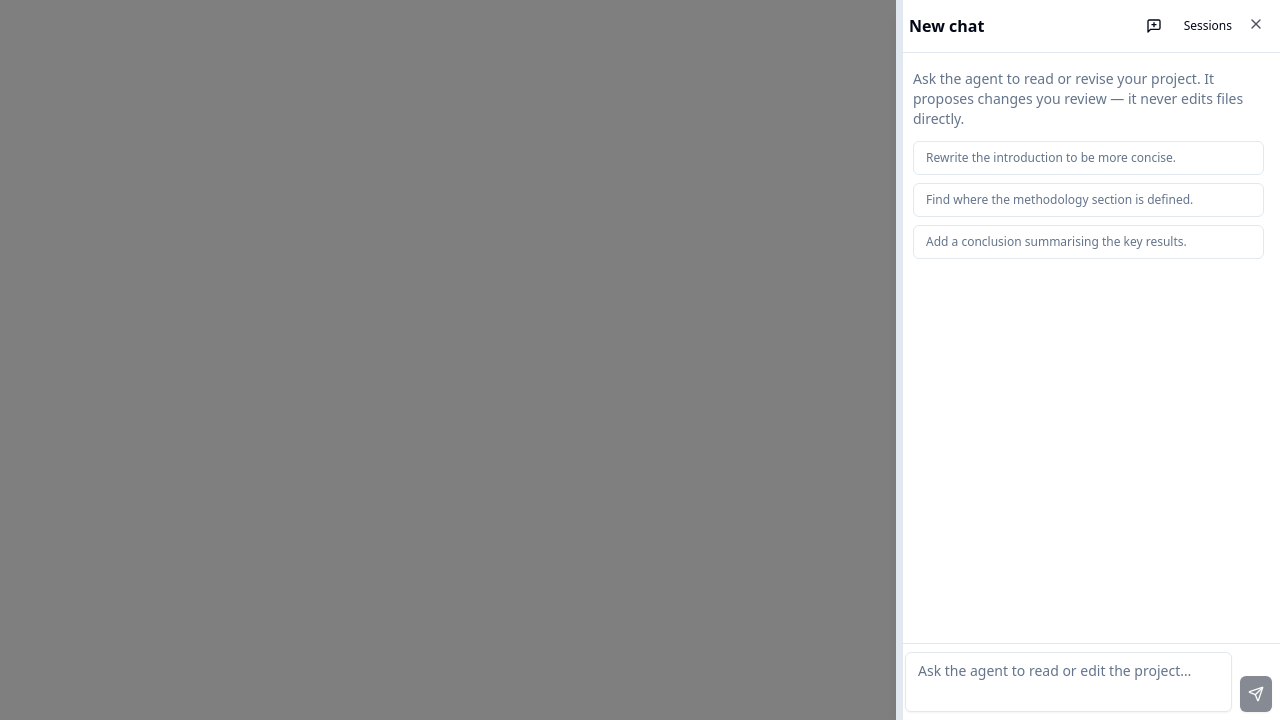
Test: AgentPanel › prefills the composer from an example chip (AC2)
Step 1. Click the button "Rewrite the introduction to be more concise." → click(1088, 158), box x1=913 y1=141 x2=1264 y2=175
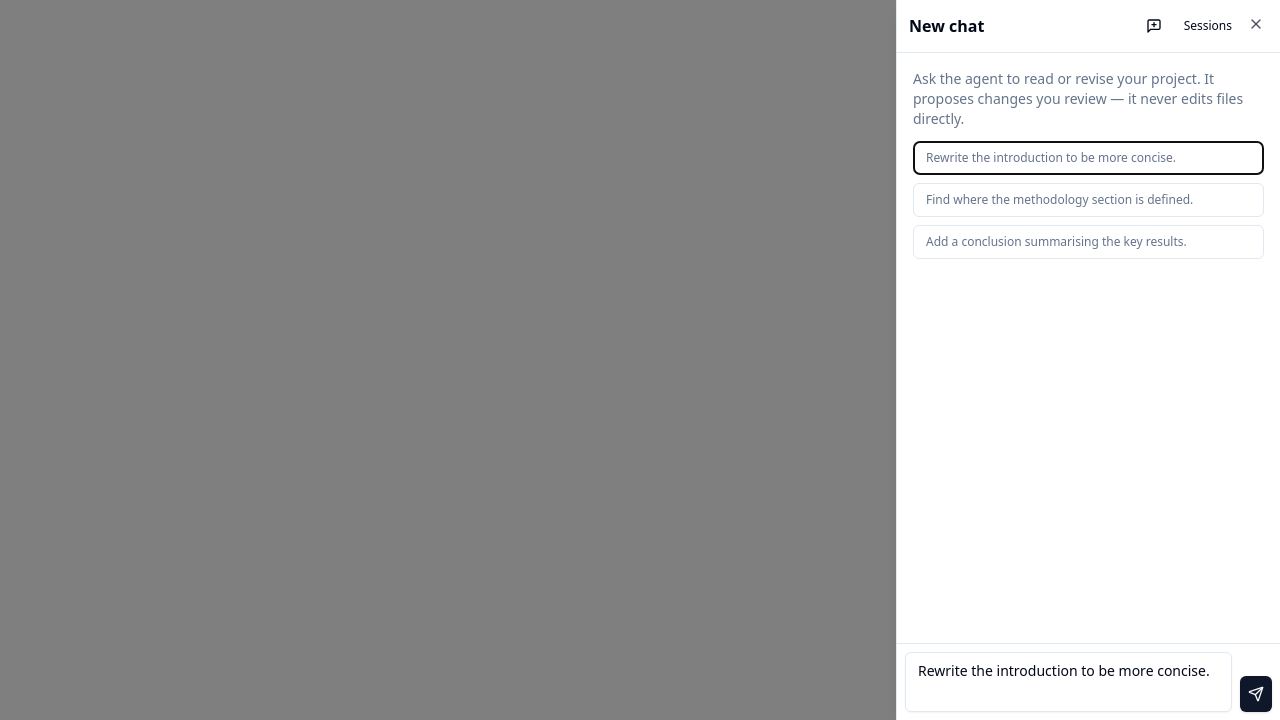
Check: the text box named "Message the agent" holds "Rewrite the introduction to be more concise.", box x1=905 y1=652 x2=1232 y2=712
